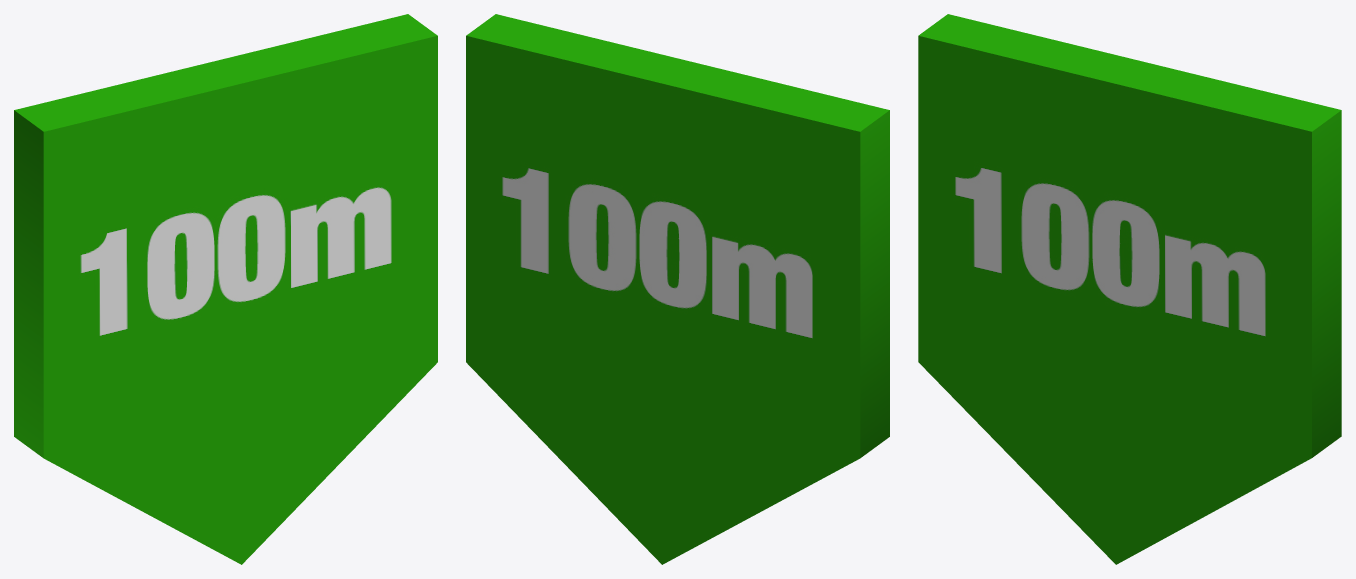
File: 100m marker.fbx
3 renders of one model, left to right at view 1: azimuth 30°, elevation 25°; view 2: azimuth 150°, elevation 25°; view 3: azimuth 330°, elevation 25°, orthographic.
Visible parts, largest first — view 1: pCube1; view 2: pCube1; view 3: pCube1.
Boxes of the visible parts, bbox=[...] form: pCube1: bbox=[14, 14, 437, 564]; pCube1: bbox=[466, 14, 889, 564]; pCube1: bbox=[918, 14, 1341, 564].
Size of the model in its own units: 3.96 by 4.62 by 0.5166.
Materials: 1 (1 with a texture image).
